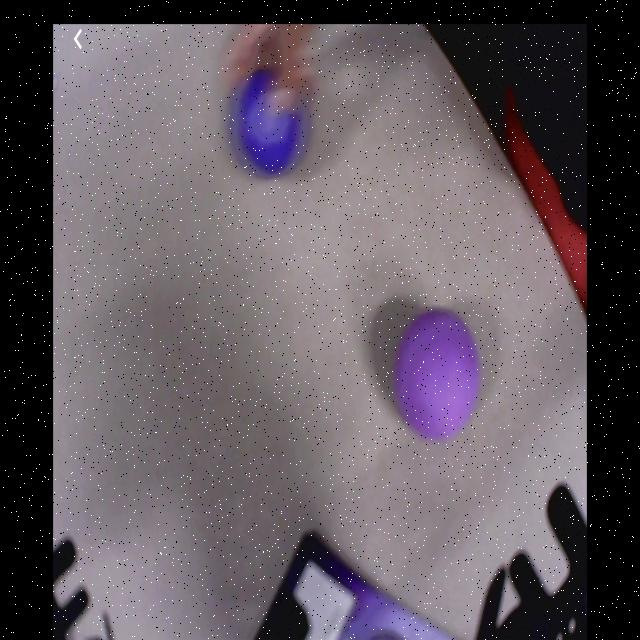ball: (395, 309, 481, 433), (240, 79, 302, 175)
